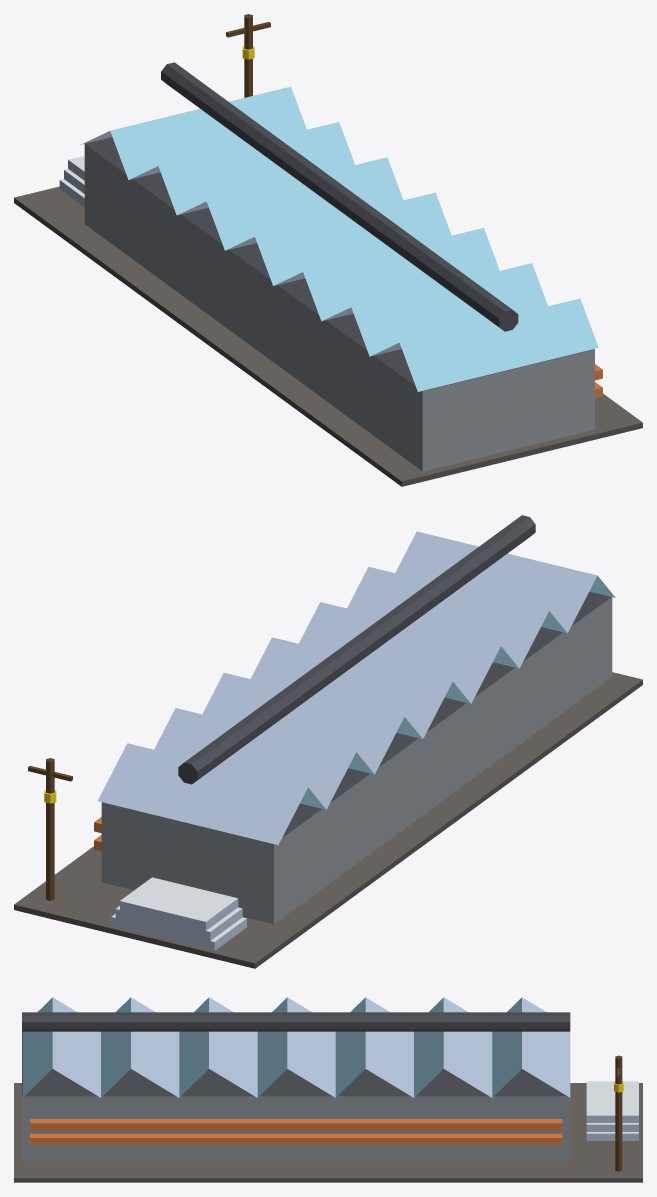
Rendered from aluminum_smelter.glb.
3 views of the same model, one above another, from view 1: azimuth 30°, elevation 25°; view 2: azimuth 150°, elevation 25°; view 3: azimuth 270°, elevation 25° (orthographic). The views are drawn at different scales.
Parts seen in each view (by area): view 1: aluminum_smelter; view 2: aluminum_smelter; view 3: aluminum_smelter.
Boxes of the visible parts, bbox=[...] form: aluminum_smelter: bbox=[14, 14, 642, 486]; aluminum_smelter: bbox=[14, 515, 642, 968]; aluminum_smelter: bbox=[14, 997, 642, 1182].
Bounding box in the file's own units: 2.8 × 1.61 × 7.8.
